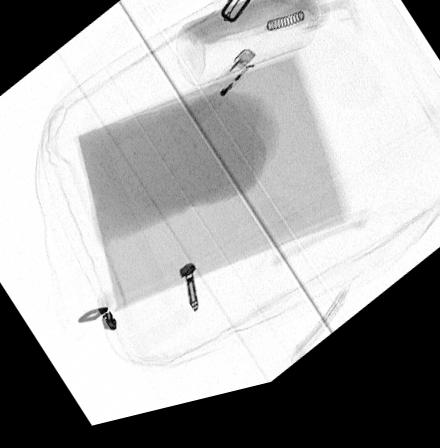Lighter: (185, 59, 260, 137)
